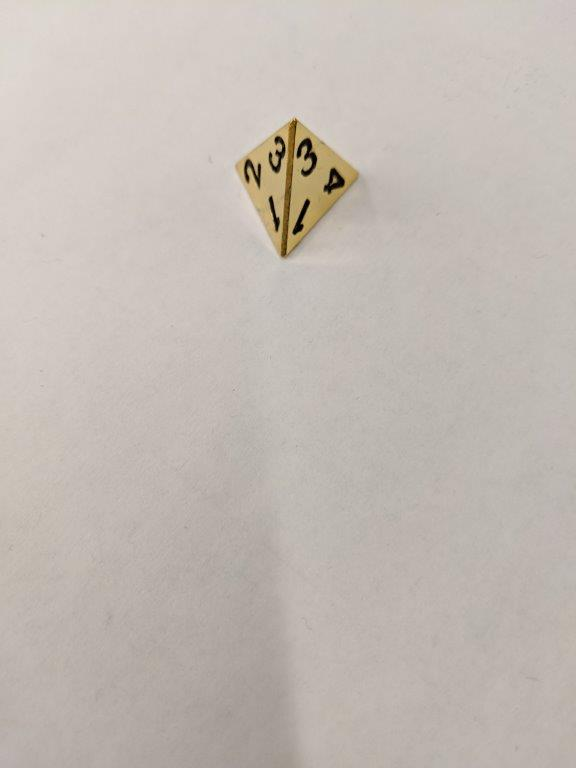d4-3: (229, 116, 362, 265)
